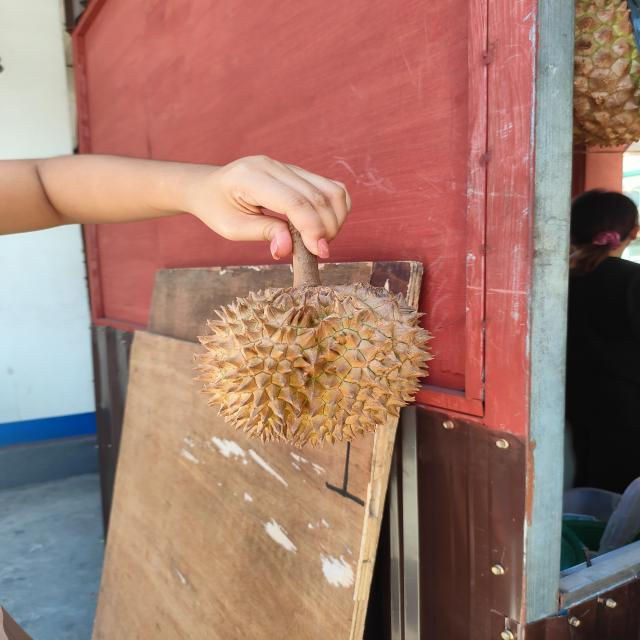mature: (193, 281, 436, 448)
